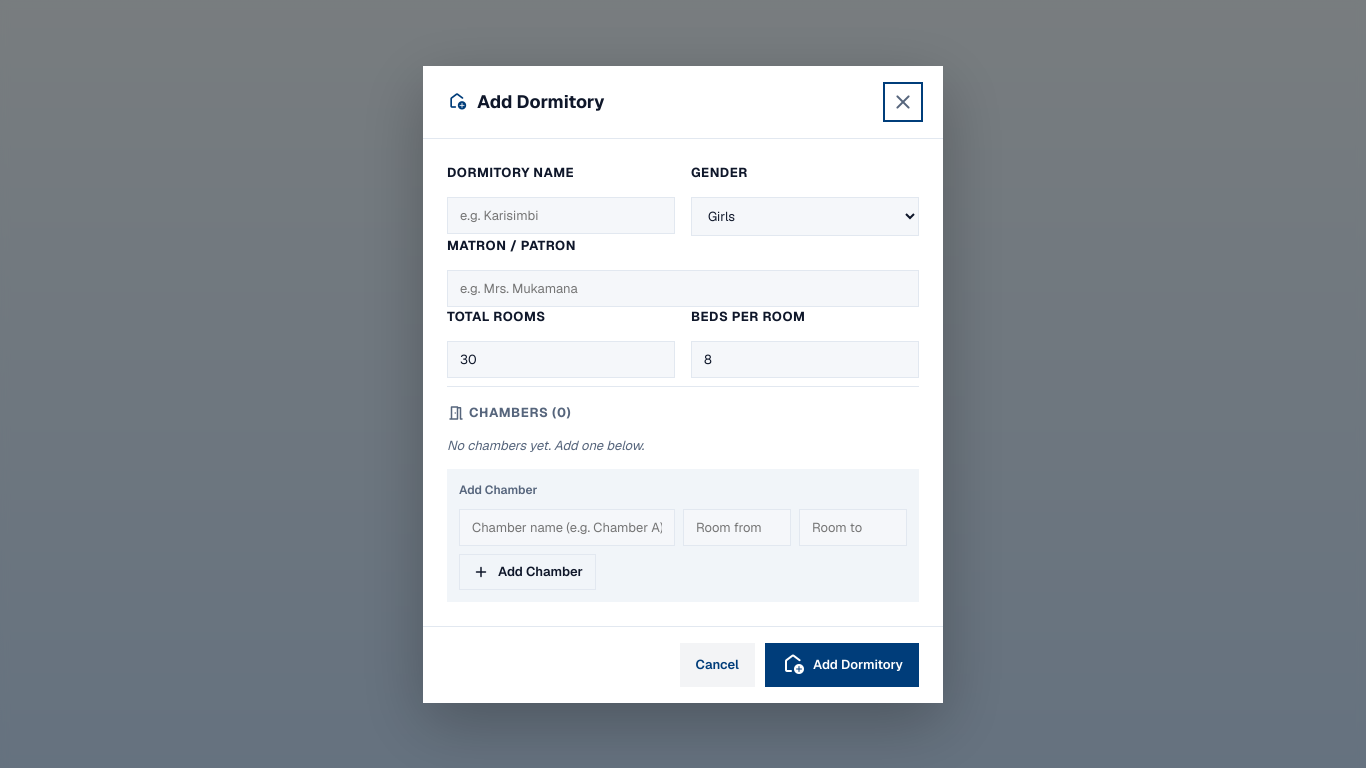
Test: DormitoryModal › rejects a chamber whose room range exceeds total rooms
The image size is (1366, 768).
Type "Chamber A" into the field with placeholder "Chamber name (e.g. Chamber A)".
click(567, 527); type("Chamber A")  # box [459, 509, 675, 546]
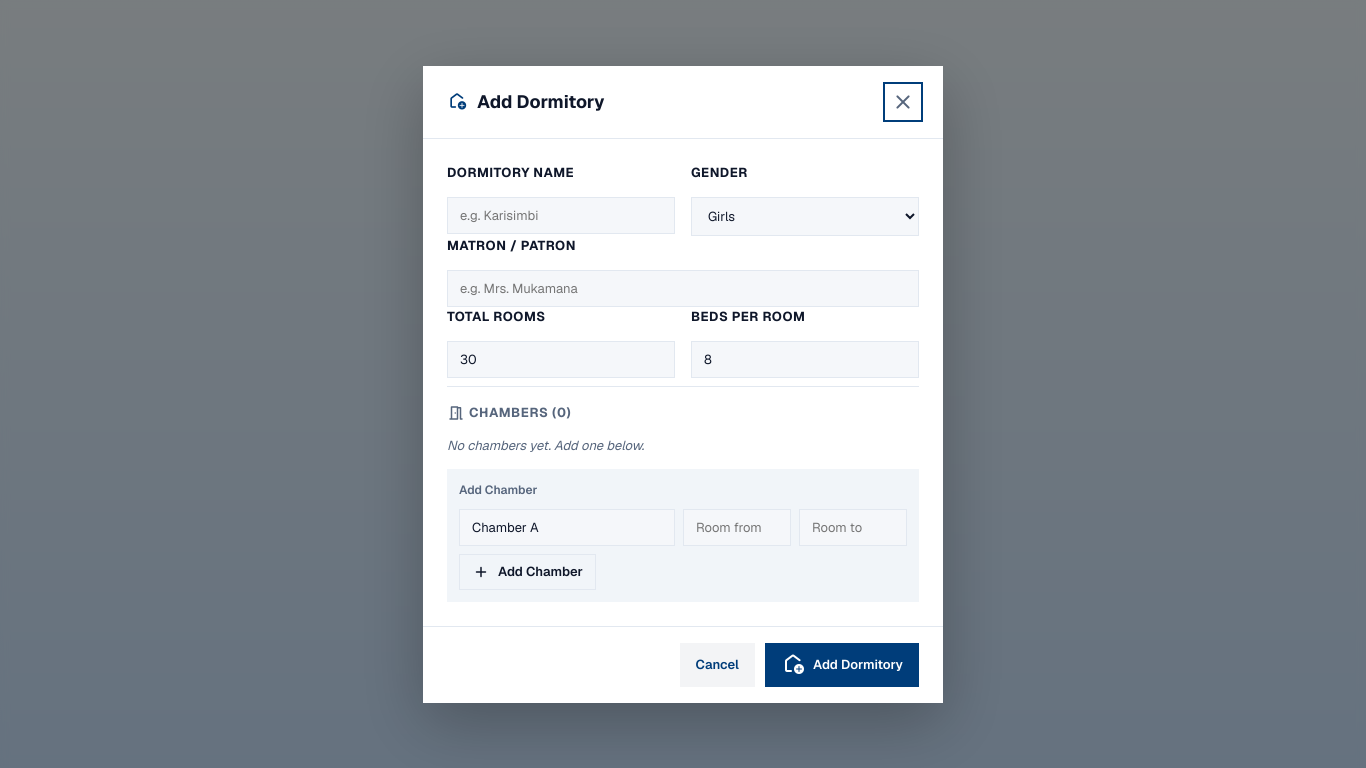
Type "1" into the number field with placeholder "Room from".
click(737, 527); type("1")  # box [683, 509, 791, 546]
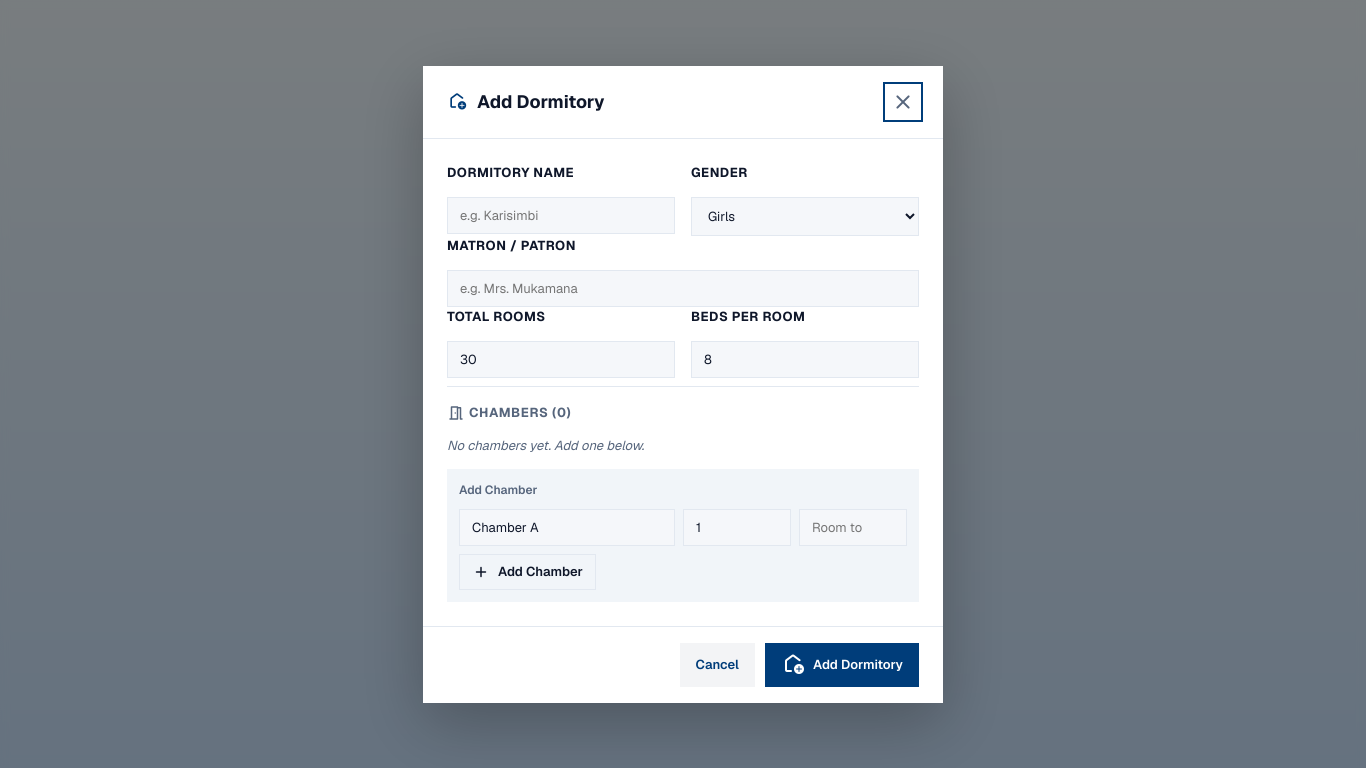
Type "999" into the number field with placeholder "Room to".
click(853, 527); type("999")  # box [799, 509, 907, 546]
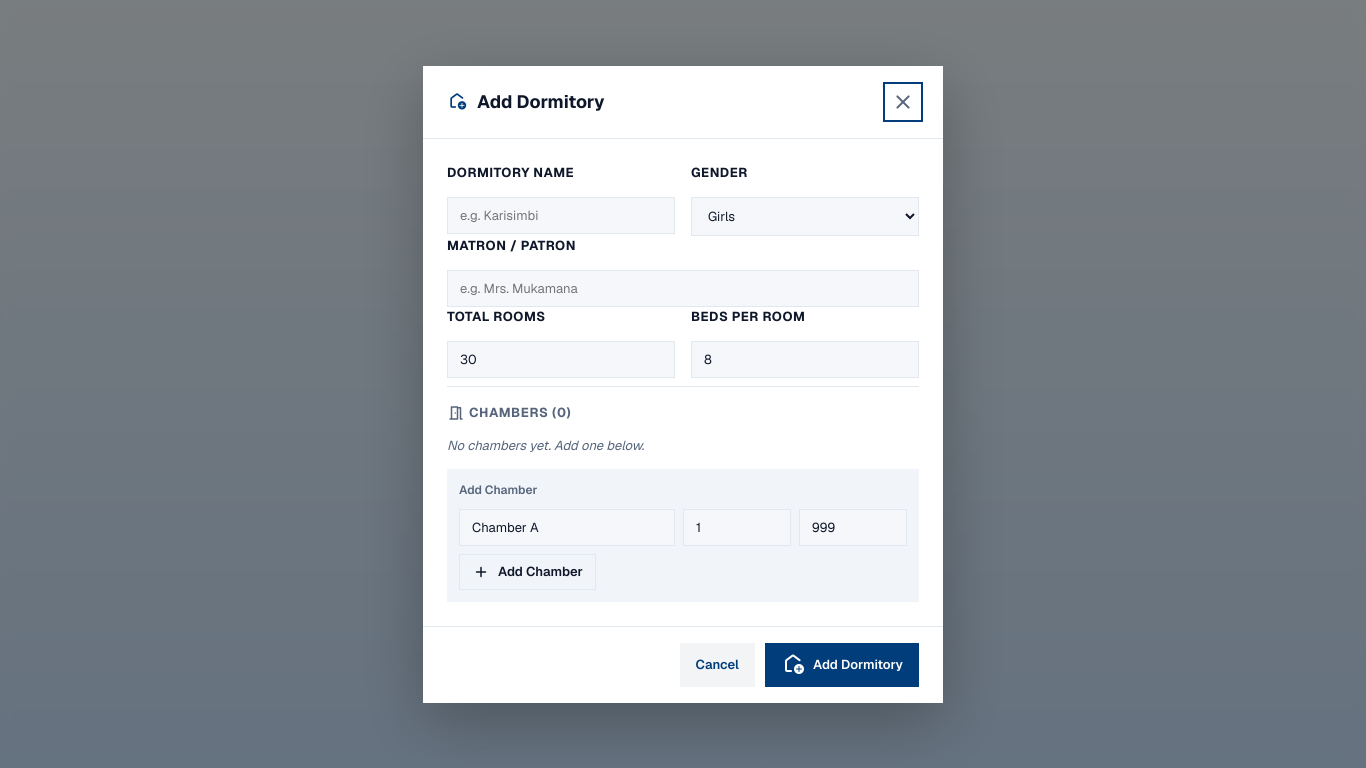
Click the button "Add Chamber".
click(527, 572)  # box [459, 554, 596, 590]
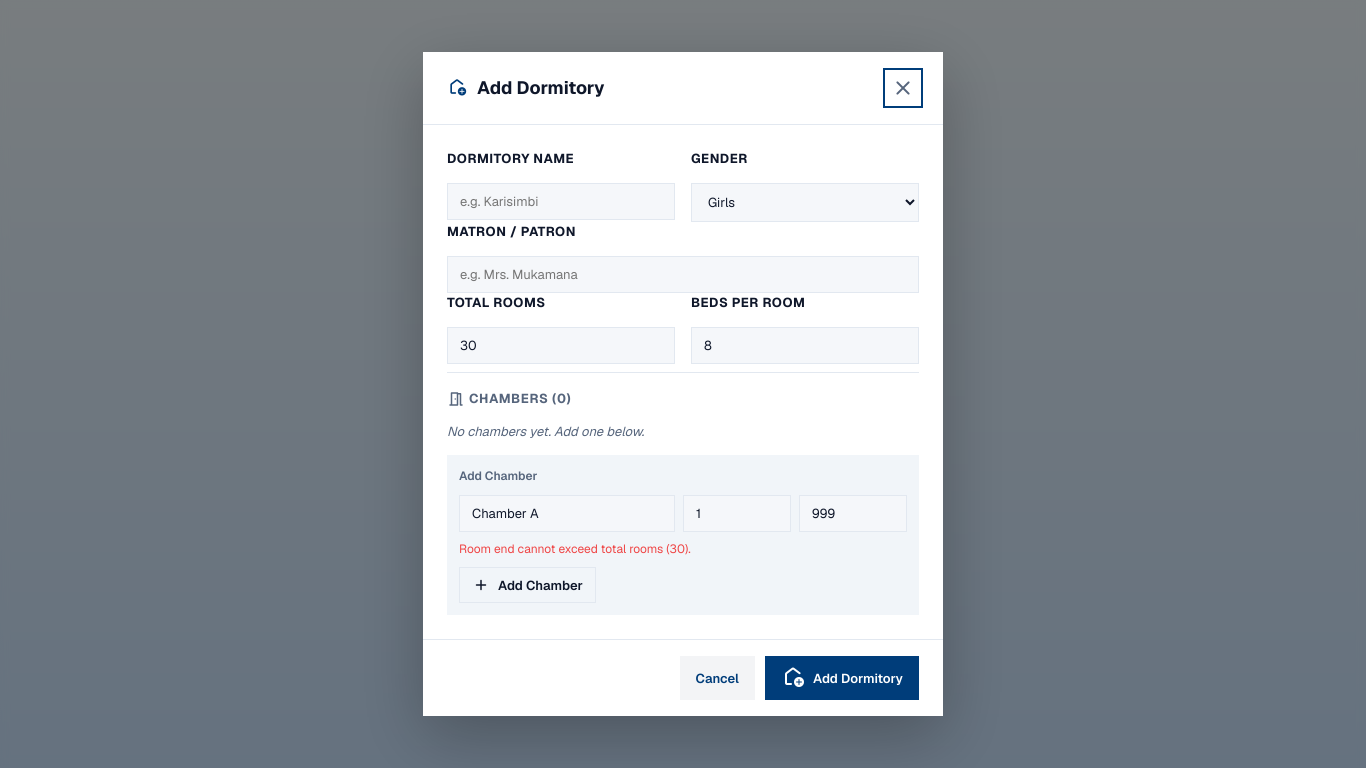
Now the text "Room end cannot exceed total rooms (30)." is shown, box [459, 541, 691, 557]
